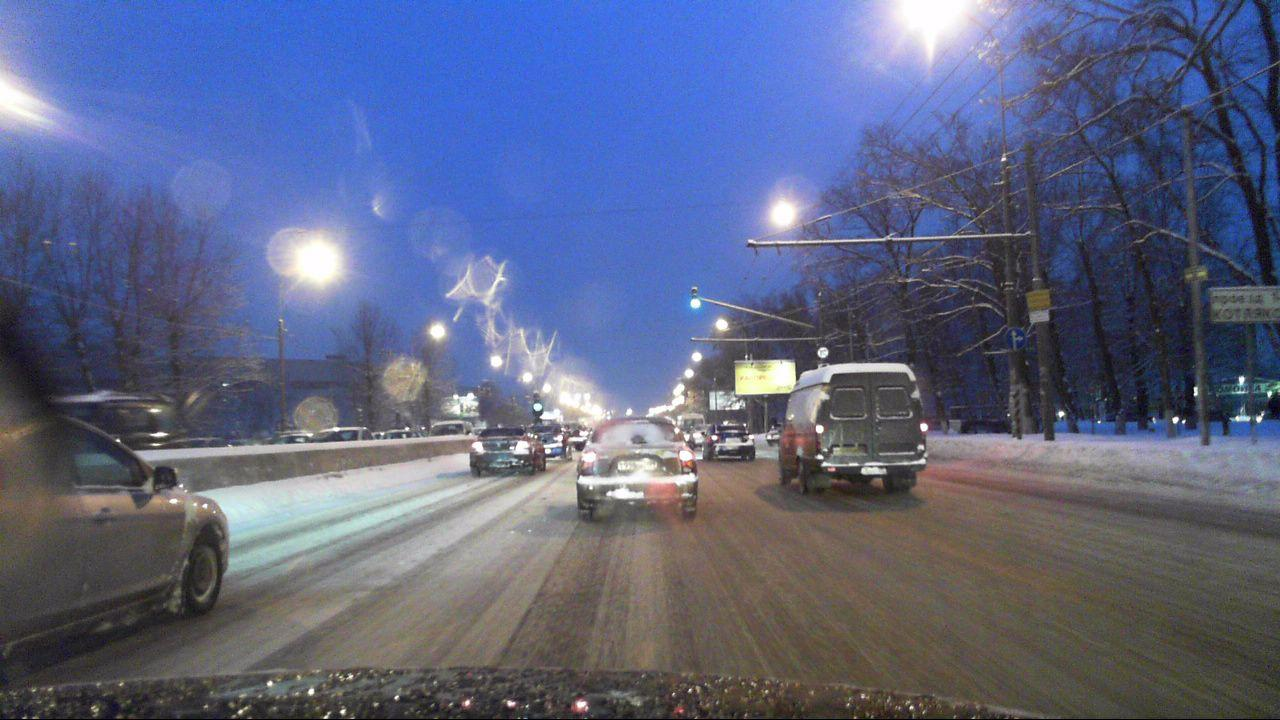road_sign: (817, 348, 829, 358)
traffic light: (532, 392, 542, 412), (691, 286, 698, 307)
